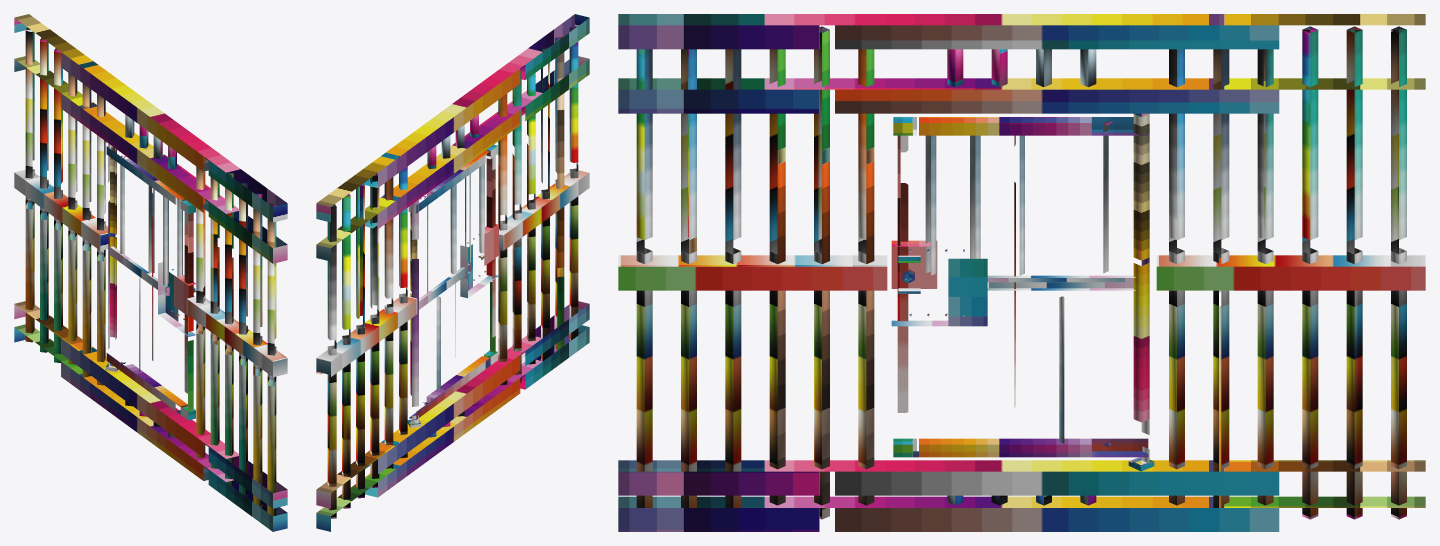
Rendered from CellDoor.fbx.
3 views of the same model, side by side, from view 1: azimuth 30°, elevation 25°; view 2: azimuth 150°, elevation 25°; view 3: azimuth 270°, elevation 25° (orthographic). The views are drawn at different scales.
Parts seen in each view (by area): view 1: Grades, Portao; view 2: Grades, Portao; view 3: Grades, Portao.
Boxes of the visible parts, bbox=[...] form: Grades: bbox=[14, 14, 287, 531]; Portao: bbox=[105, 141, 196, 420]; Grades: bbox=[316, 14, 589, 531]; Portao: bbox=[407, 144, 498, 427]; Grades: bbox=[618, 14, 1425, 531]; Portao: bbox=[891, 113, 1154, 471].
Bounding box in the file's own units: 30 × 630 × 909.
